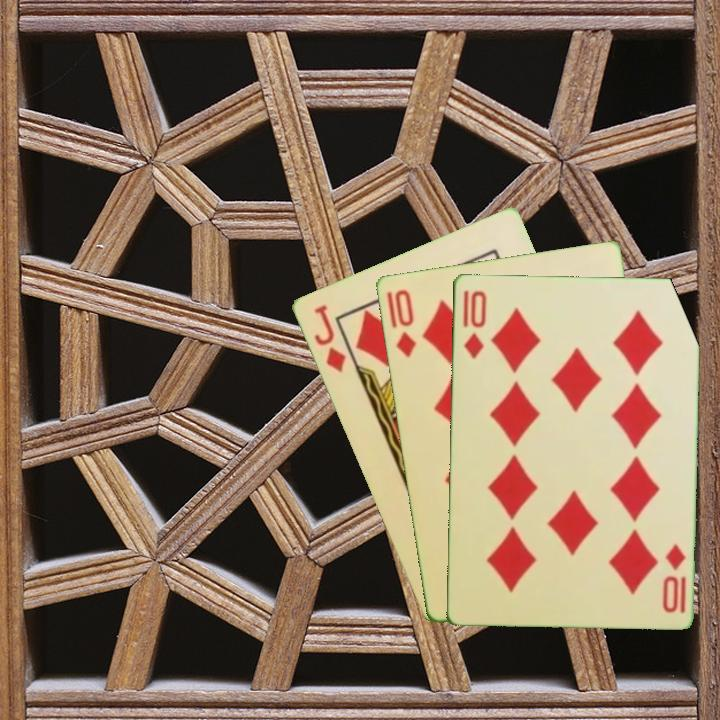10d: (382, 285, 419, 360), (658, 540, 689, 615), (459, 287, 488, 361)
Jd: (310, 301, 348, 376)
